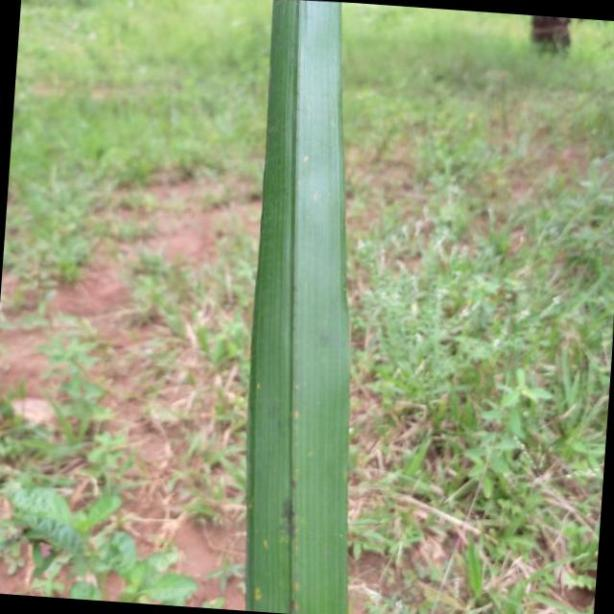Kalium: (249, 0, 352, 614)
